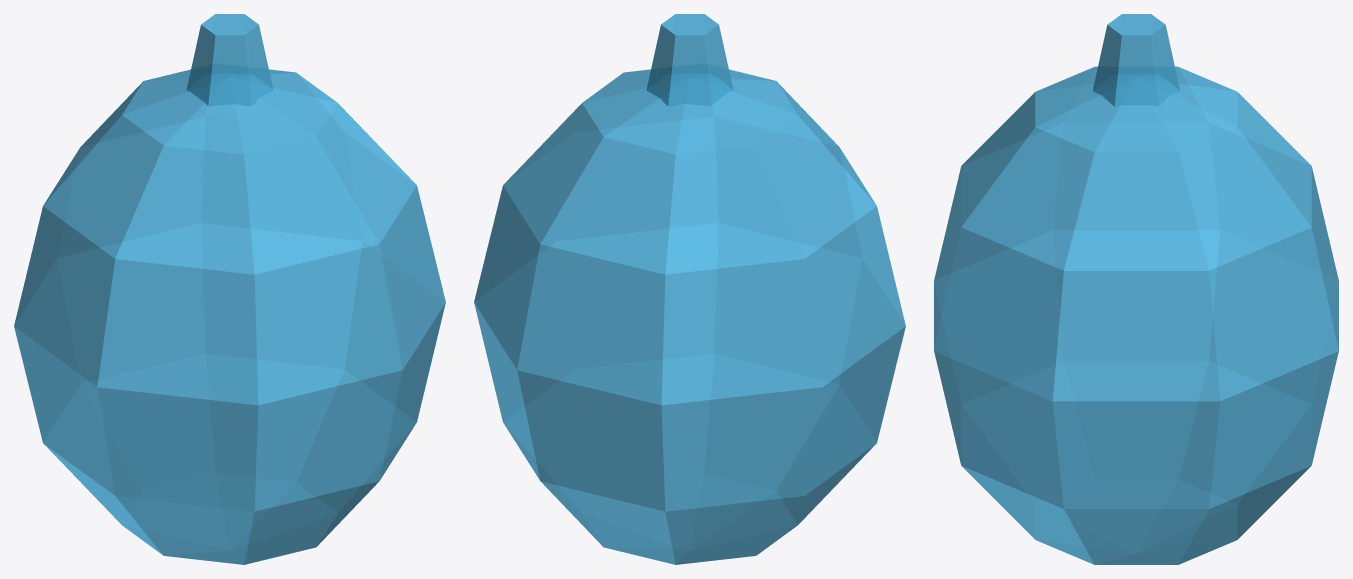
File: water_balloon.glb
The picture shows the model from 3 angles, left to right: view 1: azimuth 30°, elevation 25°; view 2: azimuth 150°, elevation 25°; view 3: azimuth 270°, elevation 25°; orthographic projection.
Parts seen in each view (by area): view 1: water_balloon; view 2: water_balloon; view 3: water_balloon.
Boxes of the visible parts, x1=… form: water_balloon: x1=14, y1=14, x2=445, y2=564; water_balloon: x1=474, y1=14, x2=905, y2=564; water_balloon: x1=934, y1=14, x2=1338, y2=564.
Size of the model in its own units: 0.0554 by 0.08 by 0.0554.
